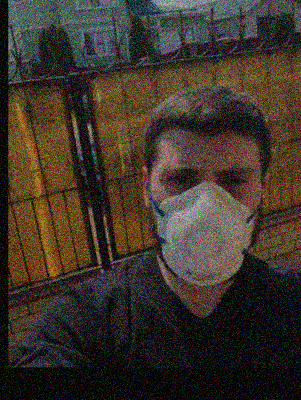with_mask: (151, 148, 262, 288)
